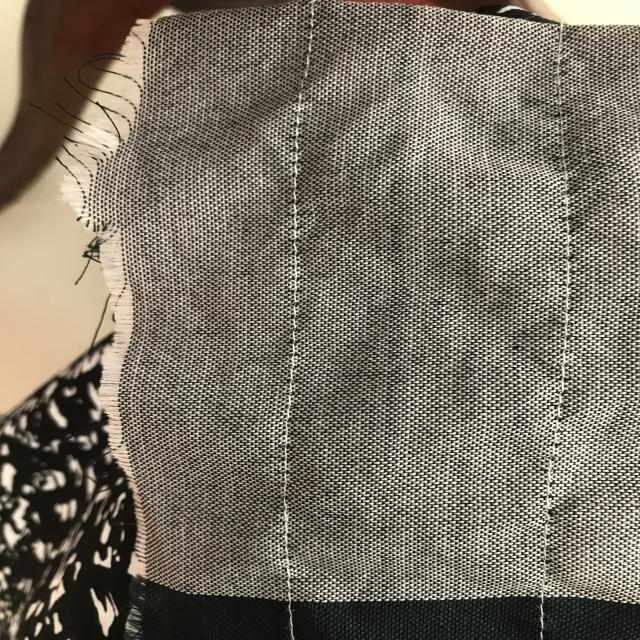good: (274, 116, 312, 274), (275, 311, 306, 479)
